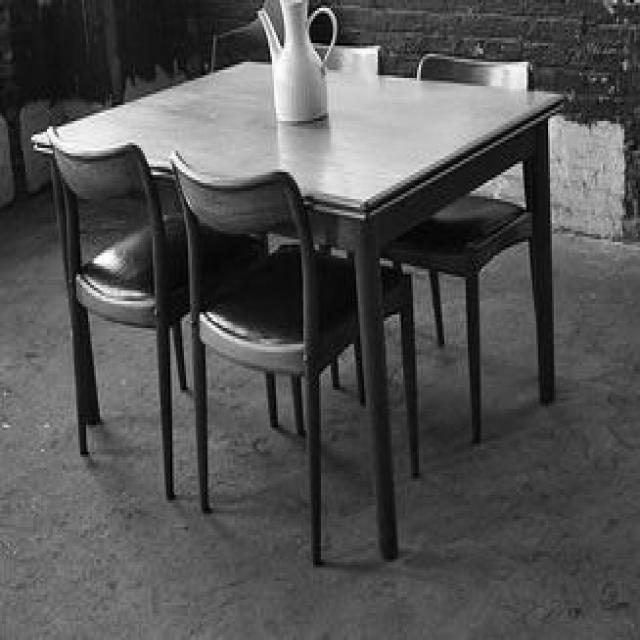chair: (171, 152, 420, 562), (49, 96, 280, 502), (359, 54, 542, 437)
table: (29, 55, 566, 561)
